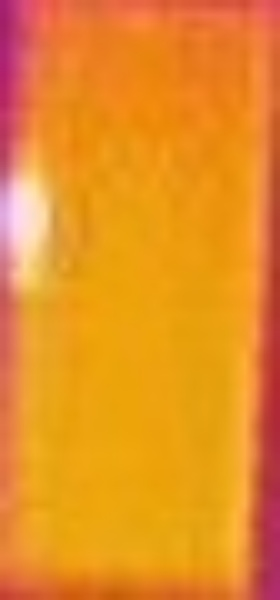Hotspot: (1, 171, 58, 279)
